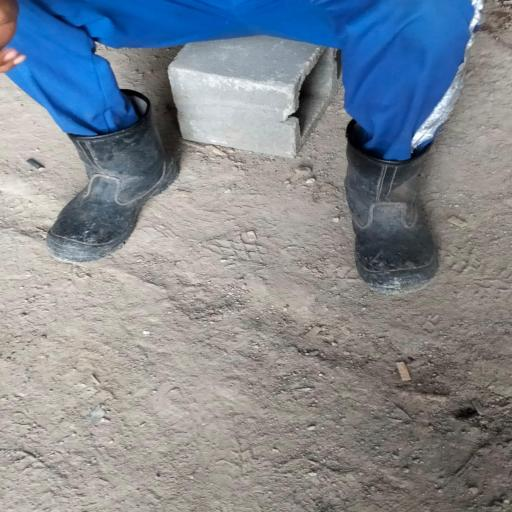safety_shoe: (42, 88, 178, 262), (340, 124, 449, 292)
